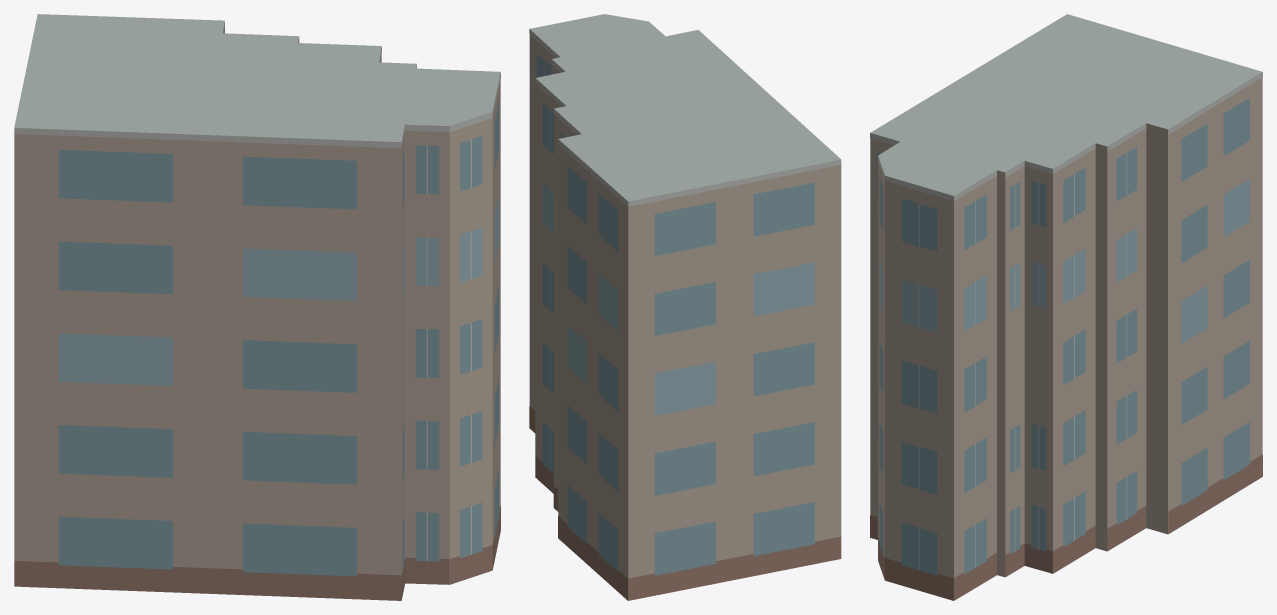
File: survey-upis-32670364.glb
3 renders of one model, left to right at view 1: azimuth 30°, elevation 25°; view 2: azimuth 150°, elevation 25°; view 3: azimuth 270°, elevation 25°, orthographic. The views are drawn at different scales.
Parts seen in each view (by area): view 1: survey-upis-32670364.tmp; view 2: survey-upis-32670364.tmp; view 3: survey-upis-32670364.tmp.
Boxes of the visible parts, bbox=[...] form: survey-upis-32670364.tmp: bbox=[14, 14, 500, 600]; survey-upis-32670364.tmp: bbox=[529, 14, 841, 600]; survey-upis-32670364.tmp: bbox=[870, 14, 1262, 600].
Size of the model in its own units: 17.74 by 18.4 by 16.18.
